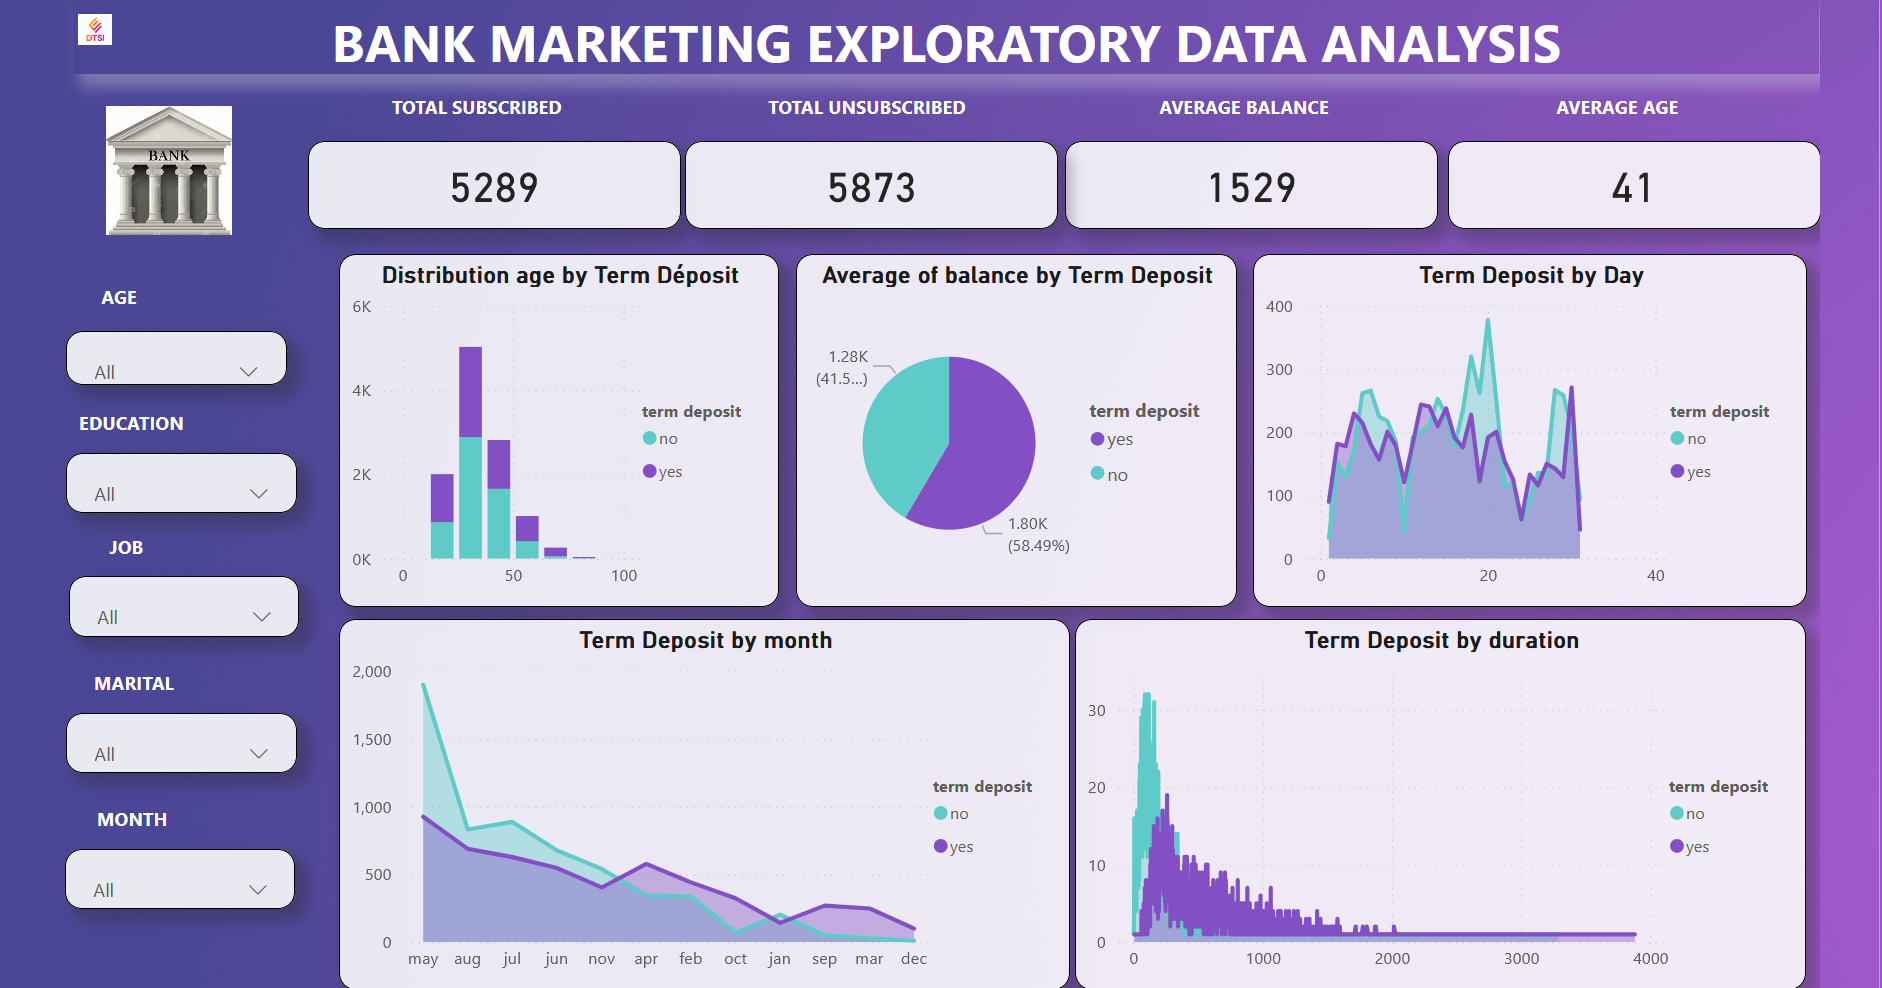

Layout of this report page (visuals, bound fields, positions):
{"tool":"powerbi","page":{"name":"Analysis by Deposit","canvas":[1280,720],"ordinal":2},"visuals":[{"type":"textbox","box":[9.5,0,1270.5,53.8],"z":0},{"type":"slicer","fields":{"Values":["bank_data_cleaned.age"]},"box":[4.9,240.9,160.2,39.1],"z":1000},{"type":"slicer","fields":{"Values":["bank_data_cleaned.education"]},"box":[4.9,328.9,167.5,44],"z":2000},{"type":"textbox","box":[1.2,201.8,84.4,39.1],"z":3000},{"type":"textbox","box":[3.7,293.5,96.6,35.5],"z":4000},{"type":"slicer","fields":{"Values":["bank_data_cleaned.job"]},"box":[6.1,419.4,167.5,44],"z":5000},{"type":"textbox","box":[0,384,96.6,35.5],"z":6000},{"type":"slicer","fields":{"Values":["bank_data_cleaned.marital"]},"box":[4.9,518.5,167.5,44],"z":7000},{"type":"textbox","box":[3.7,483,100.3,35.5],"z":8000},{"type":"slicer","fields":{"Values":["bank_data_cleaned.month"]},"box":[3.7,617.5,167.5,44],"z":9000},{"type":"textbox","box":[0,582.1,105.2,35.5],"z":10000},{"type":"card","fields":{"Values":["Avg(bank_data_cleaned.balance)"]},"box":[731.3,102.7,271.5,63.6],"z":11000},{"type":"card","fields":{"Values":["Avg(bank_data_cleaned.age)"]},"box":[1008.8,102.7,271.5,63.6],"z":12000},{"type":"card","fields":{"Values":["bank_data_cleaned.TotalDepositsYes"]},"box":[179.8,102.7,271.5,63.6],"z":13000},{"type":"card","fields":{"Values":["bank_data_cleaned.TotalDepositsNo"]},"box":[454.9,102.7,271.5,63.6],"z":14000},{"type":"textbox","box":[179.8,63.6,245.8,39.1],"z":15000},{"type":"textbox","box":[738.3,63.6,245.8,39.1],"z":16000},{"type":"textbox","box":[1014.7,63.6,236,39.1],"z":17000},{"type":"textbox","box":[463.5,63.6,245.8,39.1],"z":18000},{"type":"image","box":[25.7,72.1,107.6,103.9],"z":19000},{"type":"columnChart","title":"Distribution age by Term Déposit","fields":{"Y":["CountNonNull(bank_data_cleaned.Index)"],"Category":["bank_data_cleaned.age (bins)"],"Series":["bank_data_cleaned.term deposit"]},"box":[203,184.6,320.4,256.8],"z":20000},{"type":"pieChart","title":"Average of balance by Term Deposit","fields":{"Category":["bank_data_cleaned.term deposit"],"Y":["Avg(bank_data_cleaned.balance)"]},"box":[535.6,184.6,320.4,256.8],"z":21000},{"type":"areaChart","title":"Term Deposit by Day","fields":{"Category":["bank_data_cleaned.day"],"Y":["CountNonNull(bank_data_cleaned.Index)"],"Series":["bank_data_cleaned.term deposit"]},"box":[867,184.6,403.5,256.8],"z":22000},{"type":"areaChart","title":"Term Deposit by month ","fields":{"Y":["CountNonNull(bank_data_cleaned.Index)"],"Series":["bank_data_cleaned.term deposit"],"Category":["bank_data_cleaned.month"]},"box":[203,450,531.9,270.2],"z":23000},{"type":"areaChart","title":"Term Deposit by duration ","fields":{"Series":["bank_data_cleaned.term deposit"],"Y":["CountNonNull(bank_data_cleaned.Index)"],"Category":["bank_data_cleaned.duration"]},"box":[738.6,450,531.9,270.2],"z":24000},{"type":"image","box":[8.1,4.7,34.9,33.7],"z":24001}]}

Visuals, with their boxes in screenshot pixels (x1, y1, x2, y2):
textbox: <box>81,0,1804,73</box>
slicer - bank_data_cleaned.age: <box>75,327,292,380</box>
slicer - bank_data_cleaned.education: <box>75,446,302,506</box>
textbox: <box>70,274,185,327</box>
textbox: <box>74,398,205,446</box>
slicer - bank_data_cleaned.job: <box>77,569,304,628</box>
textbox: <box>69,521,200,569</box>
slicer - bank_data_cleaned.marital: <box>75,703,302,763</box>
textbox: <box>74,655,210,703</box>
slicer - bank_data_cleaned.month: <box>74,837,301,897</box>
textbox: <box>69,789,211,837</box>
card - Avg(bank_data_cleaned.balance): <box>1060,139,1428,226</box>
card - Avg(bank_data_cleaned.age): <box>1437,139,1805,226</box>
card - bank_data_cleaned.TotalDepositsYes: <box>312,139,681,226</box>
card - bank_data_cleaned.TotalDepositsNo: <box>685,139,1054,226</box>
textbox: <box>312,86,646,139</box>
textbox: <box>1070,86,1403,139</box>
textbox: <box>1445,86,1765,139</box>
textbox: <box>697,86,1030,139</box>
image: <box>103,98,249,239</box>
"Distribution age by Term Déposit" columnChart: <box>344,250,778,599</box>
"Average of balance by Term Deposit" pieChart: <box>795,250,1229,599</box>
"Term Deposit by Day" areaChart: <box>1244,250,1791,599</box>
"Term Deposit by month " areaChart: <box>344,610,1065,977</box>
"Term Deposit by duration " areaChart: <box>1070,610,1791,977</box>
image: <box>80,6,127,52</box>
